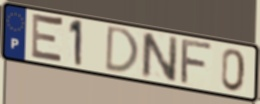0: (220, 47, 247, 92)
1: (67, 18, 85, 69)
D: (103, 24, 141, 75)
E: (29, 11, 66, 67)
F: (178, 38, 216, 86)
N: (140, 31, 180, 84)
